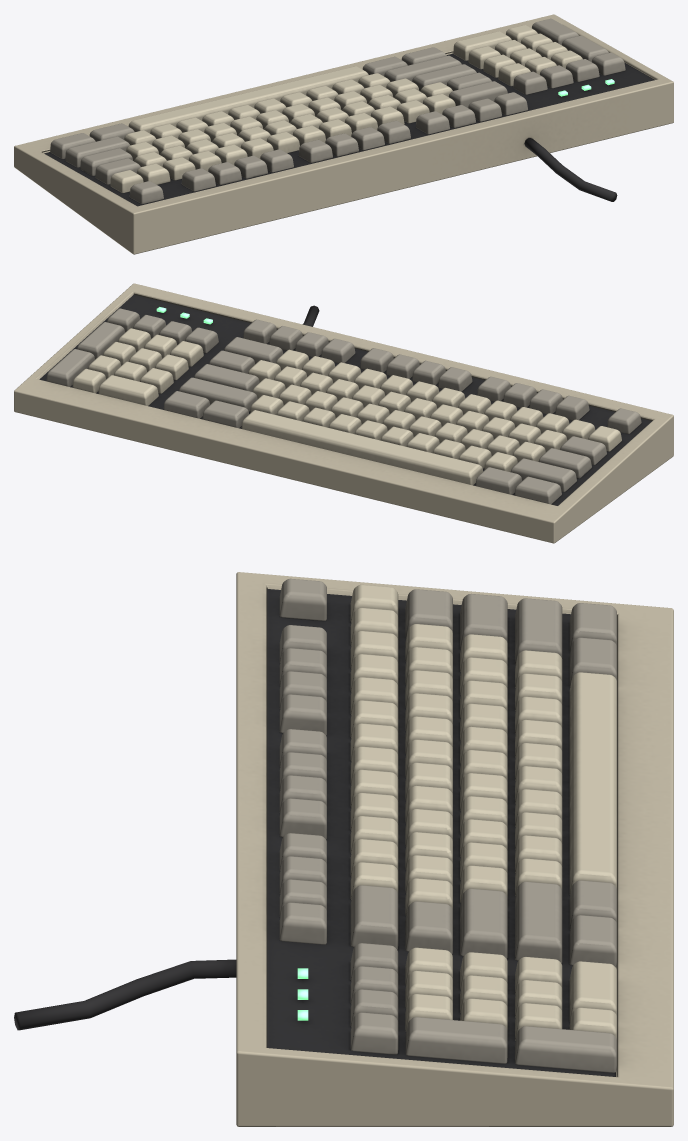
The model's file is rental-keyboard.glb.
The picture shows the model from 3 angles, top to bottom: view 1: azimuth 30°, elevation 25°; view 2: azimuth 150°, elevation 25°; view 3: azimuth 270°, elevation 25°; orthographic projection. The views are drawn at different scales.
Visible parts, largest first — view 1: KeyboardExport; view 2: KeyboardExport; view 3: KeyboardExport.
Boxes of the visible parts, x1,y1,x2,y2 form: KeyboardExport: [14, 14, 673, 254]; KeyboardExport: [14, 283, 673, 543]; KeyboardExport: [14, 572, 673, 1126].
Size of the model in its own units: 1.3 by 0.1253 by 0.7539.
6 materials, 6 textured.
